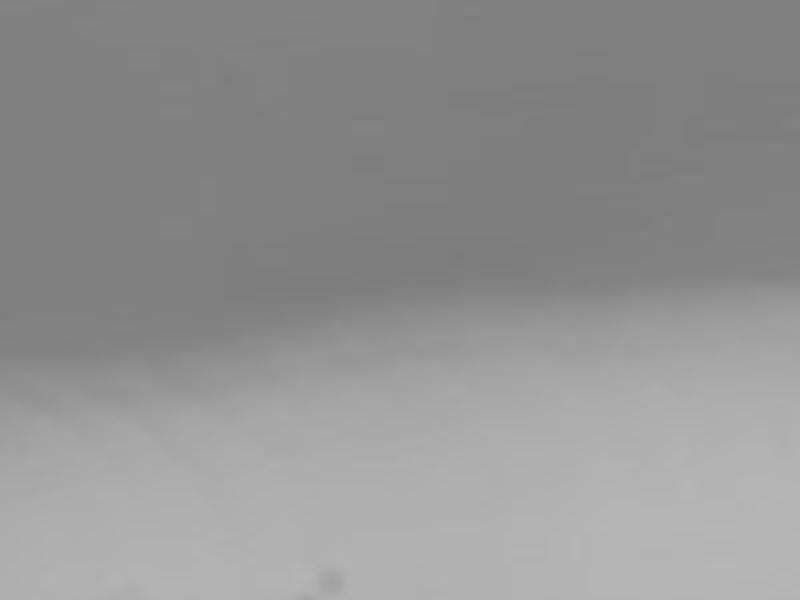defect: (312, 564, 347, 592)
